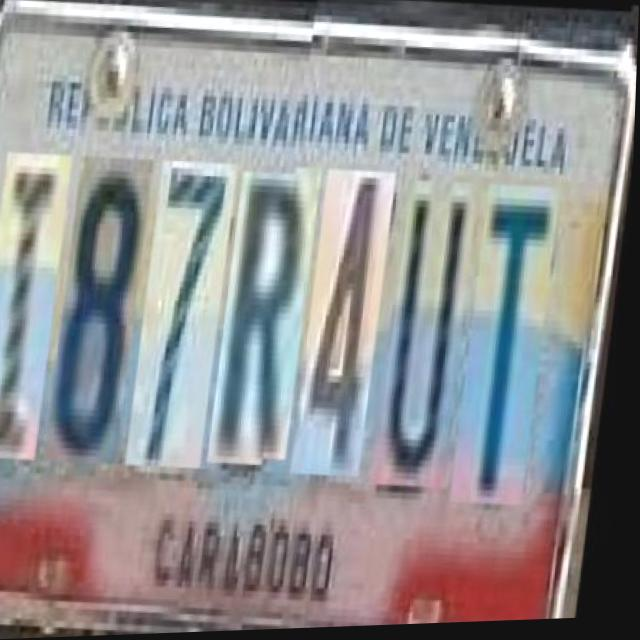4: (303, 162, 401, 473)
7: (138, 150, 243, 461)
8: (58, 146, 159, 457)
i: (0, 141, 78, 452)
r: (220, 159, 327, 458)
t: (464, 176, 567, 500)
u: (383, 173, 484, 483)
